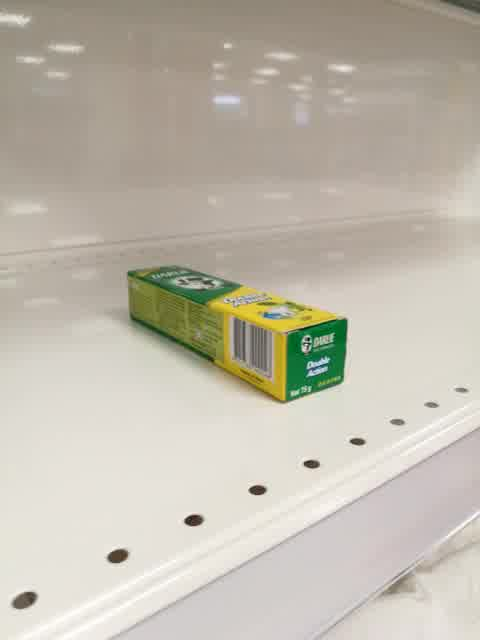toothpaste: (128, 264, 350, 405)
